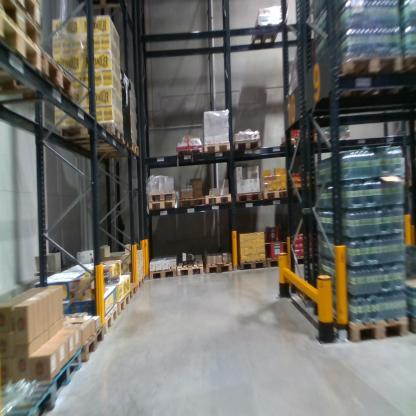pallet: (1, 42, 77, 112), (327, 55, 403, 102), (322, 305, 412, 343), (1, 9, 41, 91), (40, 345, 85, 403), (2, 374, 58, 413), (1, 1, 43, 47), (55, 120, 125, 146), (79, 321, 108, 367), (86, 303, 120, 338), (247, 20, 281, 49), (281, 125, 320, 148), (78, 139, 133, 152), (13, 2, 41, 25), (177, 255, 206, 277), (233, 134, 261, 156), (236, 254, 268, 273), (173, 142, 203, 162), (97, 143, 142, 156), (264, 183, 296, 201), (203, 139, 232, 158), (149, 264, 179, 282), (147, 196, 179, 212), (234, 189, 264, 206), (204, 258, 234, 275), (204, 191, 235, 207), (293, 251, 322, 268), (117, 284, 132, 316), (179, 192, 204, 210), (147, 189, 177, 202), (267, 253, 288, 268), (128, 278, 139, 301), (137, 275, 145, 291)
